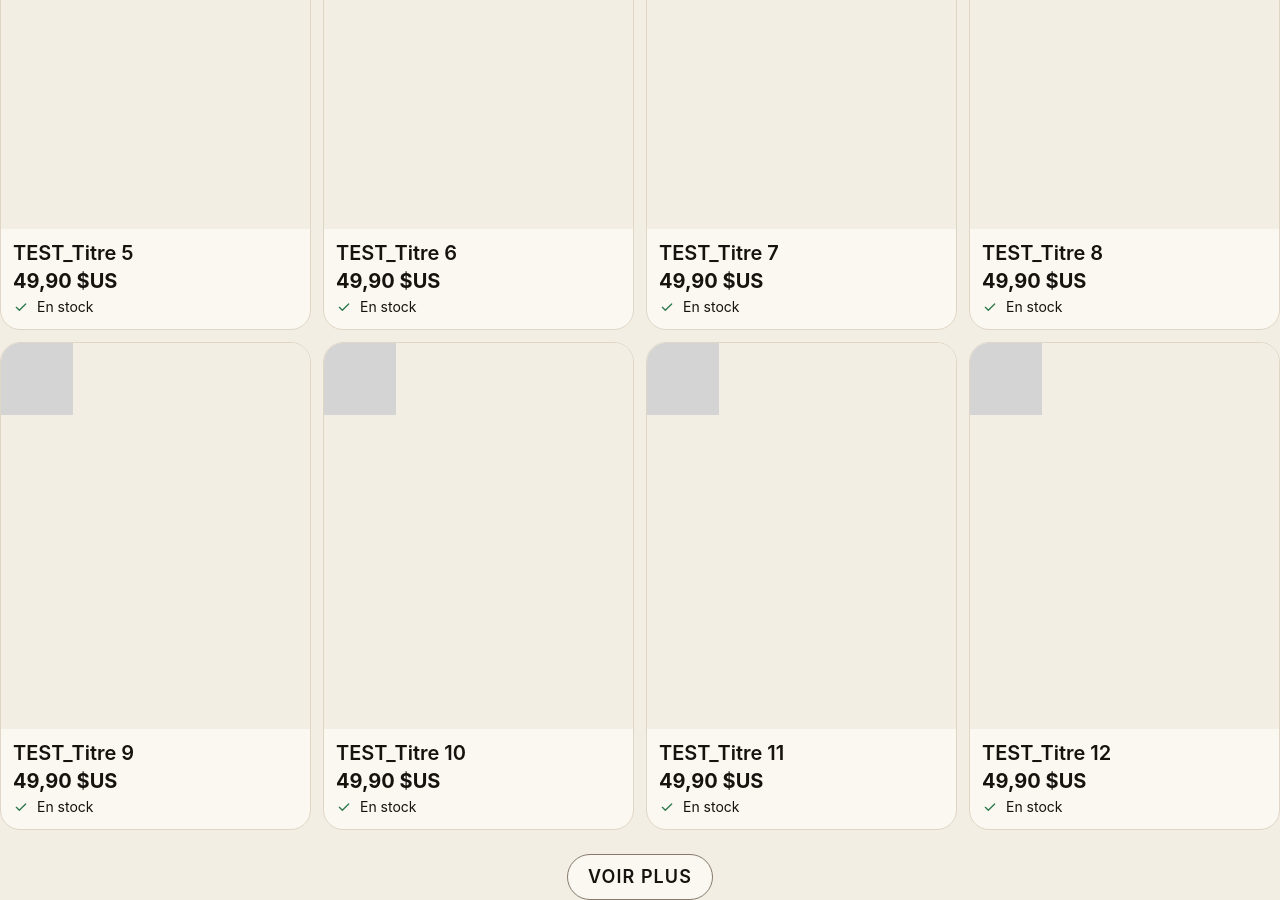
it: GrilleProduits et « Voir plus » › exception réseau : même message
This screenshot has width=1280, height=900.
(page scrolled)
Click the link "Voir plus".
click(640, 877)  # box [567,854,713,899]
(page scrolled)
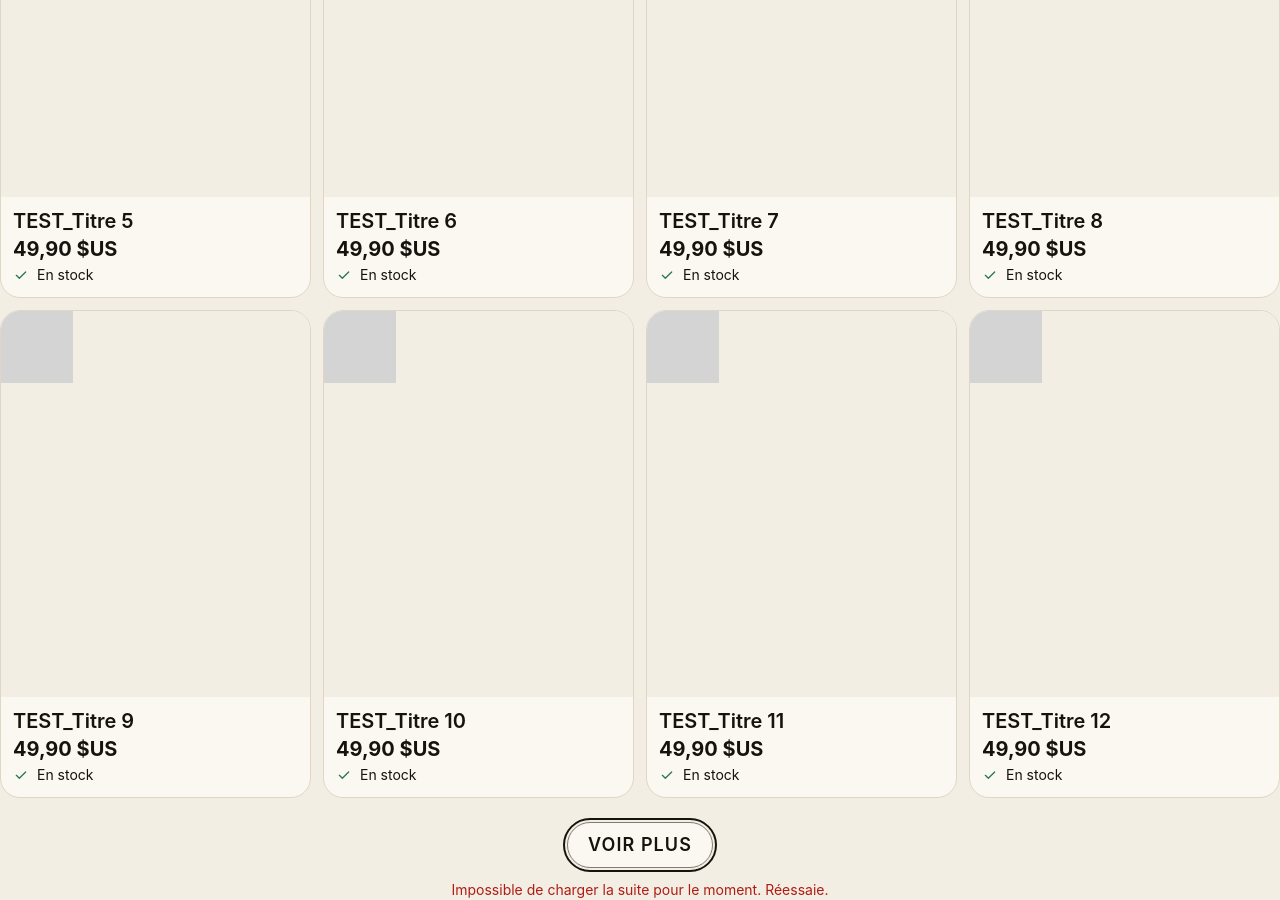
Result: the message "Impossible de charger la suite pour le moment. Réessaie." is shown at [452,880,828,899]
